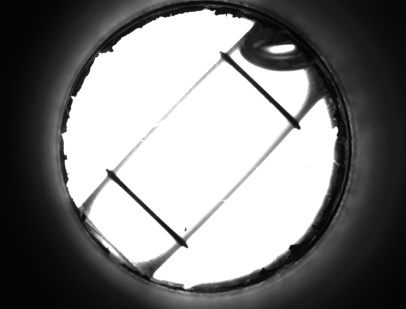line: (116, 188, 168, 223), (242, 80, 290, 108)
